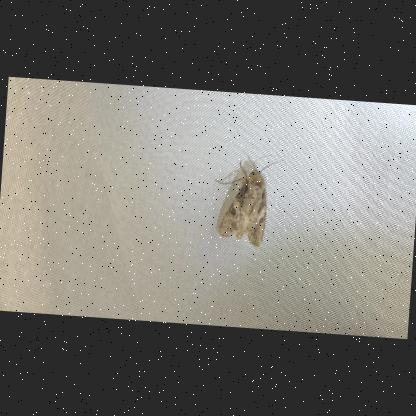Fall Armyworm Moth: (209, 154, 282, 250)
